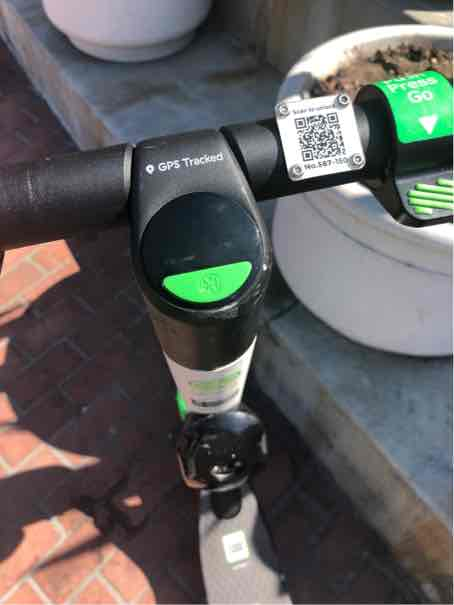scooter: (3, 62, 451, 605)
